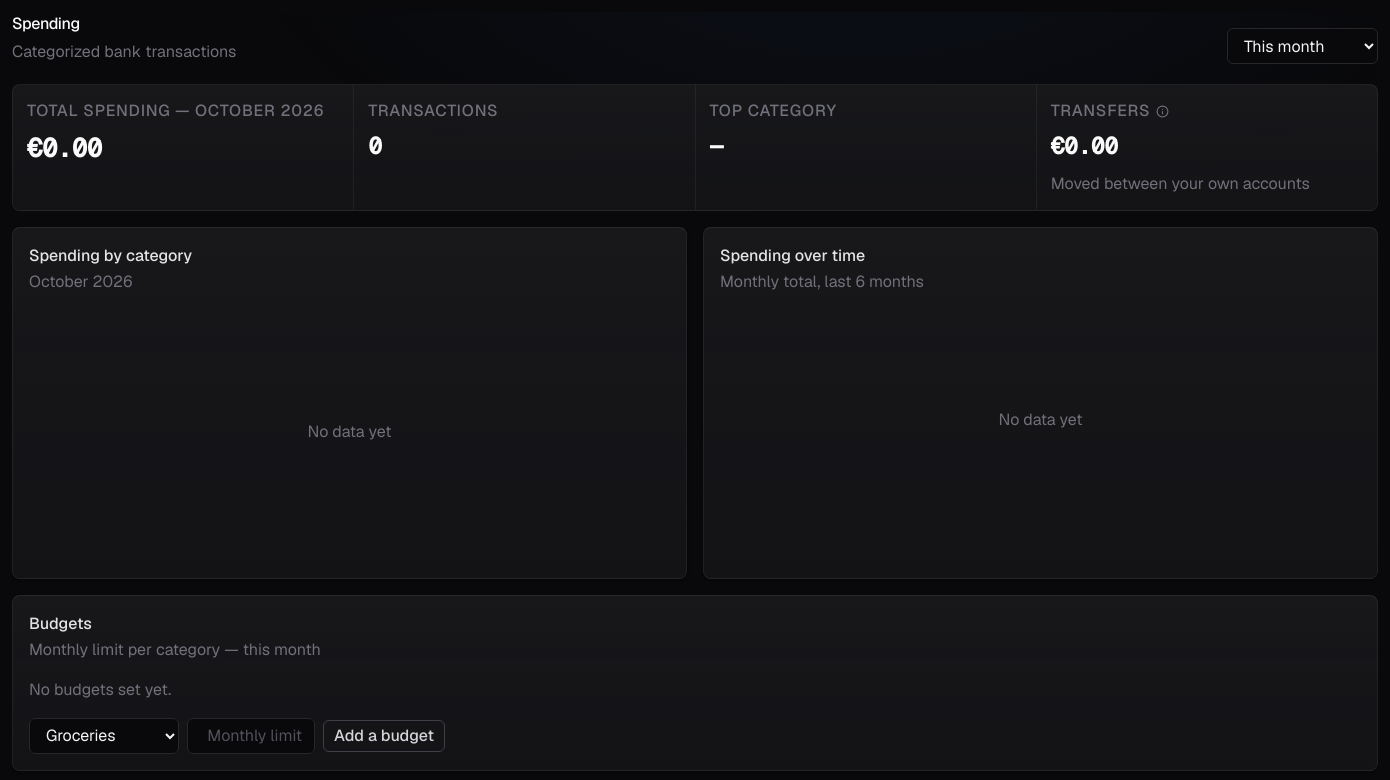
Scenario: Spending › explains Transfers through an info tip
The width and height of the screenshot is (1390, 780).
Focus the button named "About transfers" at (1163, 111), box [1156,104,1169,118]
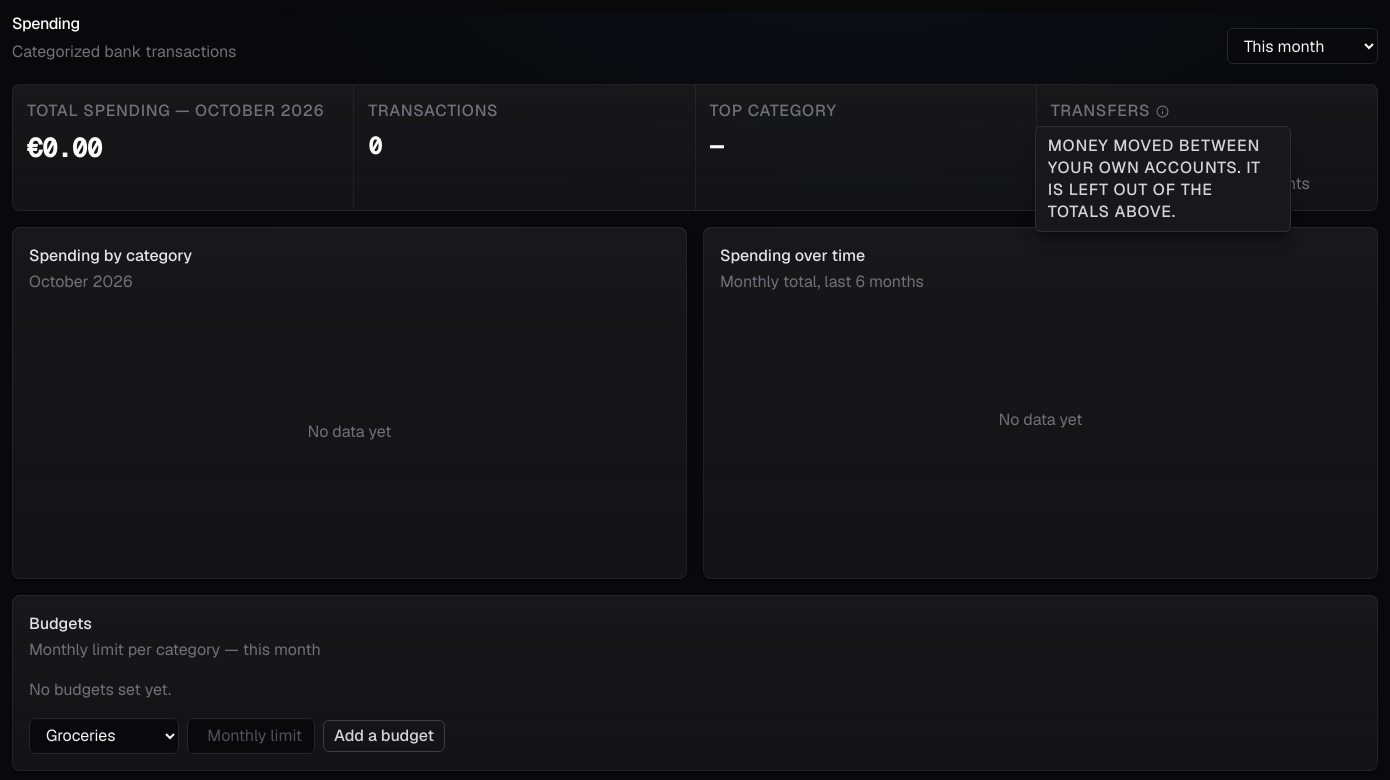
Result: the tooltip reads "Money moved between your own accounts. It is left out of the totals above." at [1048,134,1261,222]
